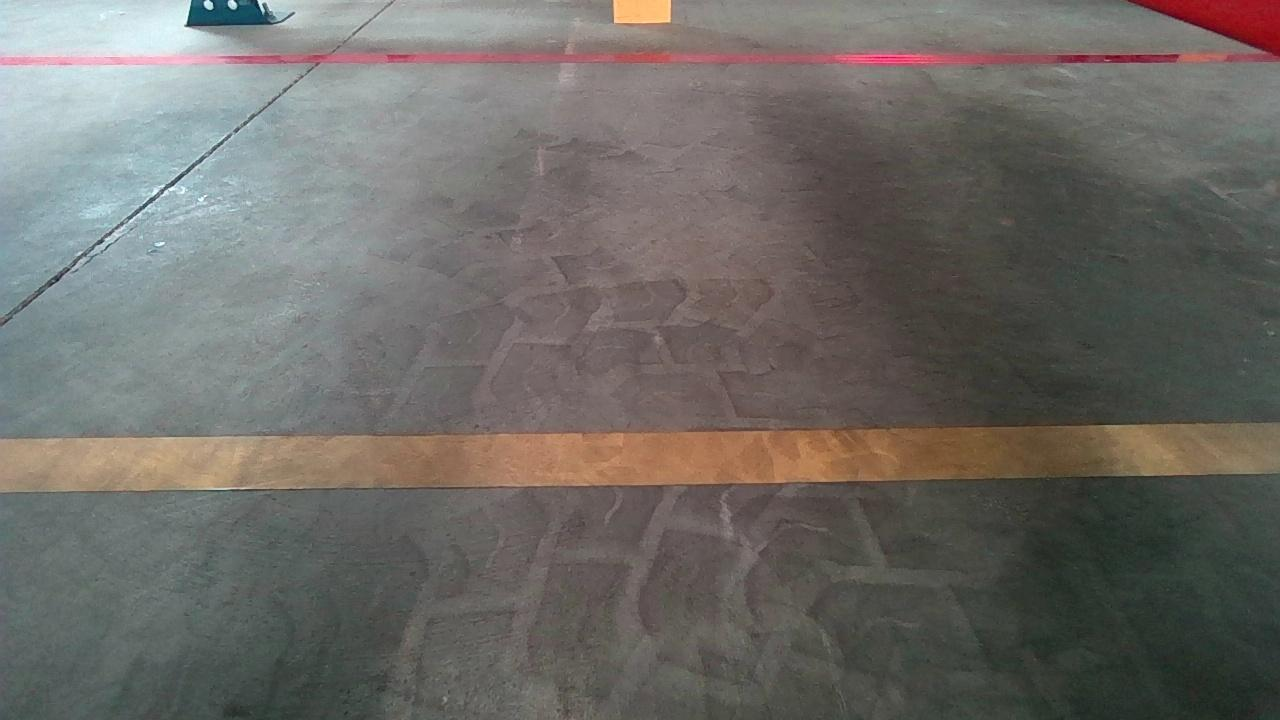red_line: (6, 46, 1262, 74)
yellow_line: (0, 419, 1270, 492)
